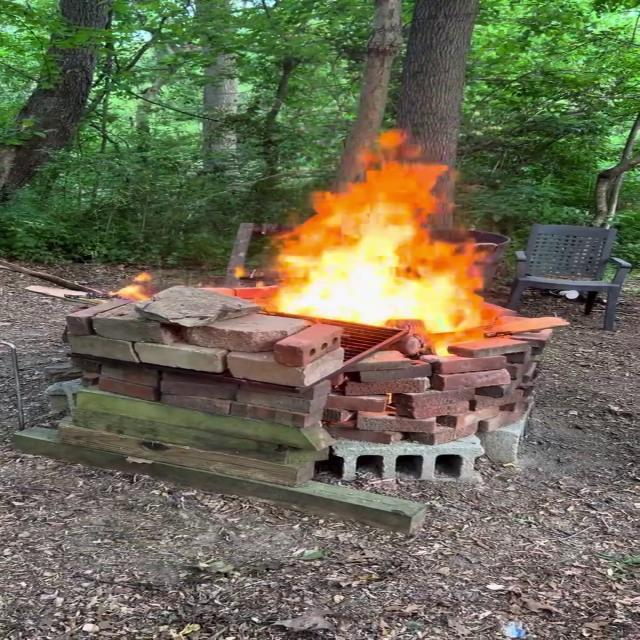Fire: (250, 128, 508, 348)
